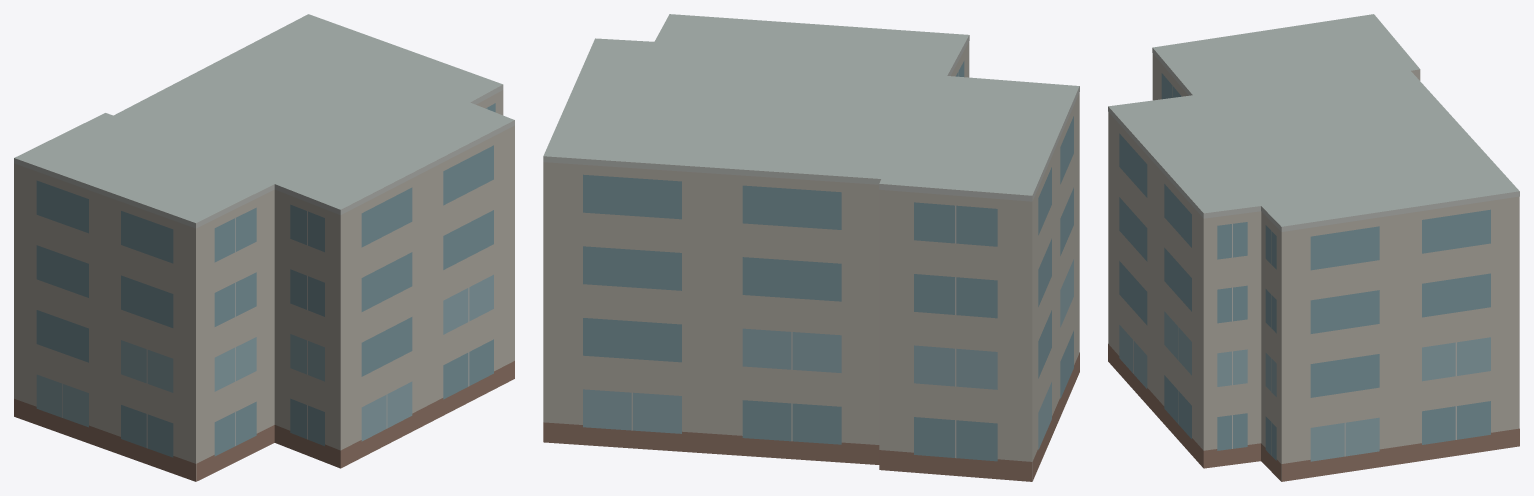
File: survey-upis-32844639.glb
3 renders of one model, left to right at view 1: azimuth 30°, elevation 25°; view 2: azimuth 150°, elevation 25°; view 3: azimuth 270°, elevation 25°, orthographic. The views are drawn at different scales.
Parts seen in each view (by area): view 1: survey-upis-32844639.tmp; view 2: survey-upis-32844639.tmp; view 3: survey-upis-32844639.tmp.
Part boxes in pixels (<box>): survey-upis-32844639.tmp: <box>14,14,514,481</box>; survey-upis-32844639.tmp: <box>543,14,1079,481</box>; survey-upis-32844639.tmp: <box>1108,14,1519,481</box>.
Bounding box in the file's own units: 21.12 × 11.8 × 17.27.
